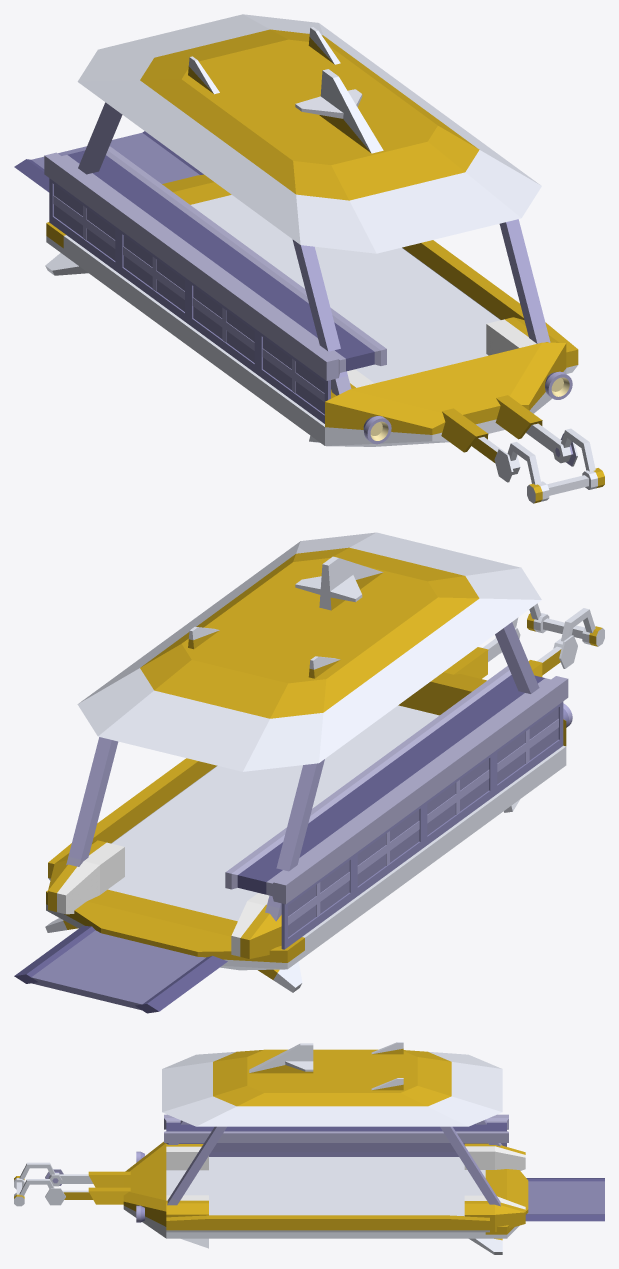
File: Cart.fbx
3 renders of one model, top to bottom at view 1: azimuth 30°, elevation 25°; view 2: azimuth 150°, elevation 25°; view 3: azimuth 270°, elevation 25°, orthographic. The views are drawn at different scales.
Parts seen in each view (by area): view 1: hull_topFront (×2), hull_lower (×2), wall (×2), hull_tail, fence_eastAsianBasicLow (×4), columns_small (×2), blaster_back, wall_end (×2), wall_edges, rudder_sides, shaft_default (×2), hull_lowerFrontPoint (+4 smaller); view 2: hull_topFront (×2), hull_lower, wall (×2), hull_lowerFrontPoint (×3), wall_edges, fence_eastAsianBasicLow (×4), columns_small (×2), blaster_back, wall_end (×2), rudder_sides, hull_tail, socket_double (+3 smaller); view 3: hull_topFront (×2), hull_lower (×3), wall (×2), blaster_back, hull_lowerFrontPoint (×3), wall_edges, hull_tail, columns_small (×2), rudder_sides, shaft_default (×2), wall_end (×2), fence_eastAsianBasicLow (×2) (+3 smaller).
Part boxes in pixels (bbox=[...]): hull_topFront (×2): bbox=[77, 14, 541, 253]; hull_lower (×2): bbox=[63, 195, 559, 445]; wall (×2): bbox=[54, 156, 367, 413]; hull_tail: bbox=[325, 342, 566, 446]; fence_eastAsianBasicLow (×4): bbox=[49, 178, 330, 423]; columns_small (×2): bbox=[78, 102, 550, 395]; blaster_back: bbox=[402, 240, 578, 373]; wall_end (×2): bbox=[44, 146, 386, 380]; wall_edges: bbox=[14, 131, 203, 192]; rudder_sides: bbox=[295, 69, 383, 153]; shaft_default (×2): bbox=[441, 395, 542, 452]; hull_lowerFrontPoint: bbox=[46, 174, 231, 254]; hull_topFront (×2): bbox=[77, 532, 541, 771]; hull_lower: bbox=[108, 705, 566, 956]; wall (×2): bbox=[245, 679, 558, 937]; hull_lowerFrontPoint (×3): bbox=[46, 840, 304, 970]; wall_edges: bbox=[14, 926, 227, 1013]; fence_eastAsianBasicLow (×4): bbox=[281, 701, 563, 949]; columns_small (×2): bbox=[66, 622, 539, 921]; blaster_back: bbox=[48, 758, 217, 880]; wall_end (×2): bbox=[225, 666, 568, 904]; rudder_sides: bbox=[295, 556, 383, 610]; hull_tail: bbox=[398, 672, 566, 746]; socket_double: bbox=[527, 613, 604, 646]; hull_topFront (×2): bbox=[162, 1049, 502, 1126]; hull_lower (×3): bbox=[166, 1144, 485, 1238]; wall (×2): bbox=[179, 1123, 504, 1152]; blaster_back: bbox=[166, 1215, 489, 1232]; hull_lowerFrontPoint (×3): bbox=[464, 1143, 528, 1238]; wall_edges: bbox=[525, 1178, 604, 1221]; hull_tail: bbox=[123, 1141, 166, 1238]; columns_small (×2): bbox=[166, 1119, 502, 1206]; rudder_sides: bbox=[249, 1043, 313, 1073]; shaft_default (×2): bbox=[88, 1171, 130, 1204]; wall_end (×2): bbox=[164, 1114, 508, 1142]; fence_eastAsianBasicLow (×2): bbox=[251, 1152, 421, 1156].
Bounding box in the file's own units: 42.74 × 45.55 × 139.
